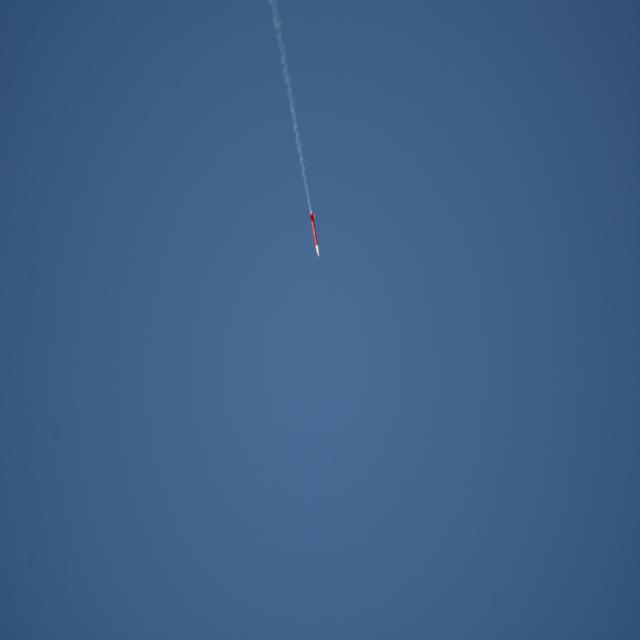Rocket: (310, 213, 320, 257)
